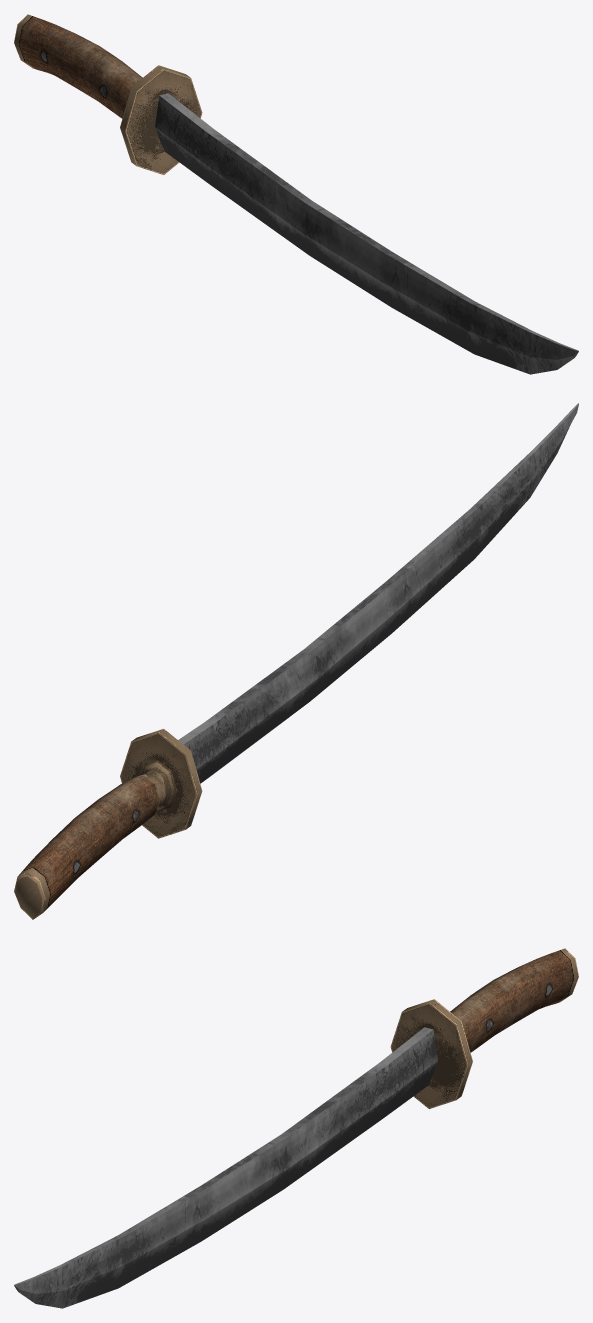
Rendered from weapon_saber_test.fbx.
3 renders of one model, top to bottom at view 1: azimuth 30°, elevation 25°; view 2: azimuth 150°, elevation 25°; view 3: azimuth 330°, elevation 25°, orthographic.
Visible parts, largest first — view 1: weapon_saber; view 2: weapon_saber; view 3: weapon_saber.
Boxes of the visible parts, bbox=[...] form: weapon_saber: bbox=[14, 14, 578, 374]; weapon_saber: bbox=[14, 403, 578, 919]; weapon_saber: bbox=[14, 948, 578, 1308].
Bounding box in the file's own units: 12.88 × 20.46 × 160.
